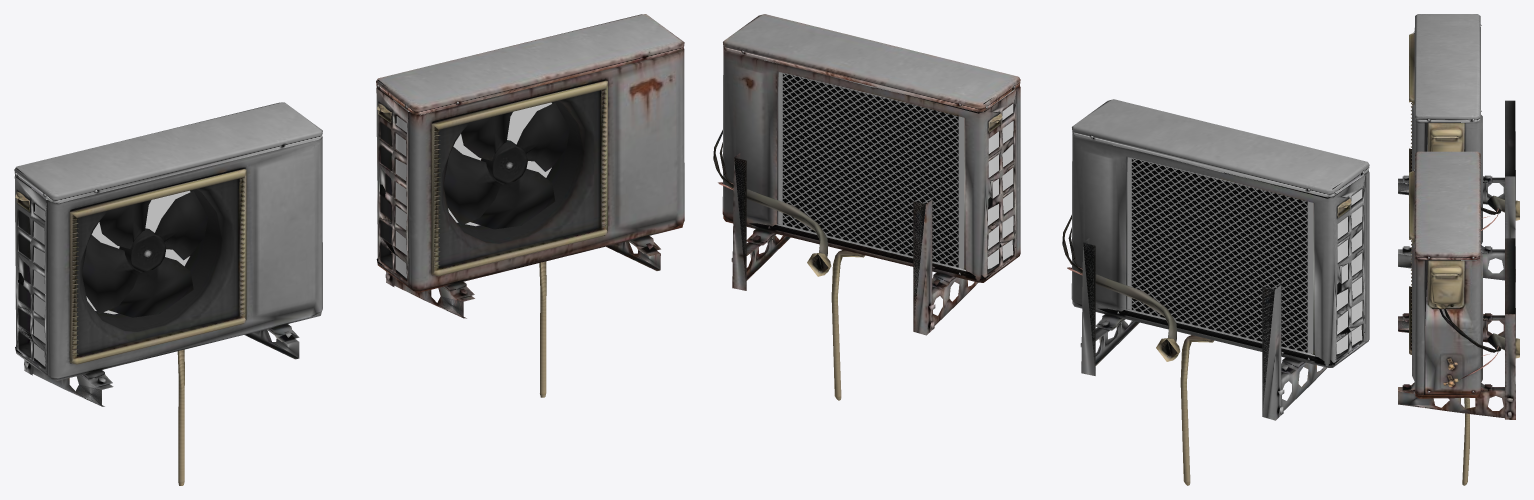
File: exterior_aircon_unit.gltf
3 renders of one model, left to right at view 1: azimuth 30°, elevation 25°; view 2: azimuth 150°, elevation 25°; view 3: azimuth 270°, elevation 25°, orthographic. The views are drawn at different scales.
Parts seen in each view (by area): view 1: exterior_aircon_unit_rusted, exterior_aircon_unit; view 2: exterior_aircon_unit_rusted, exterior_aircon_unit; view 3: exterior_aircon_unit_rusted, exterior_aircon_unit.
Part boxes in pixels (box(x1,y1,x2,y2)): exterior_aircon_unit_rusted: box(376, 14, 684, 397); exterior_aircon_unit: box(14, 102, 322, 485); exterior_aircon_unit_rusted: box(713, 14, 1020, 400); exterior_aircon_unit: box(1062, 99, 1369, 485); exterior_aircon_unit_rusted: box(1398, 151, 1519, 485); exterior_aircon_unit: box(1398, 14, 1519, 281).
Bounding box in the file's own units: 1.8 × 0.9276 × 0.3742.
Materials: 4 (4 with a texture image).
